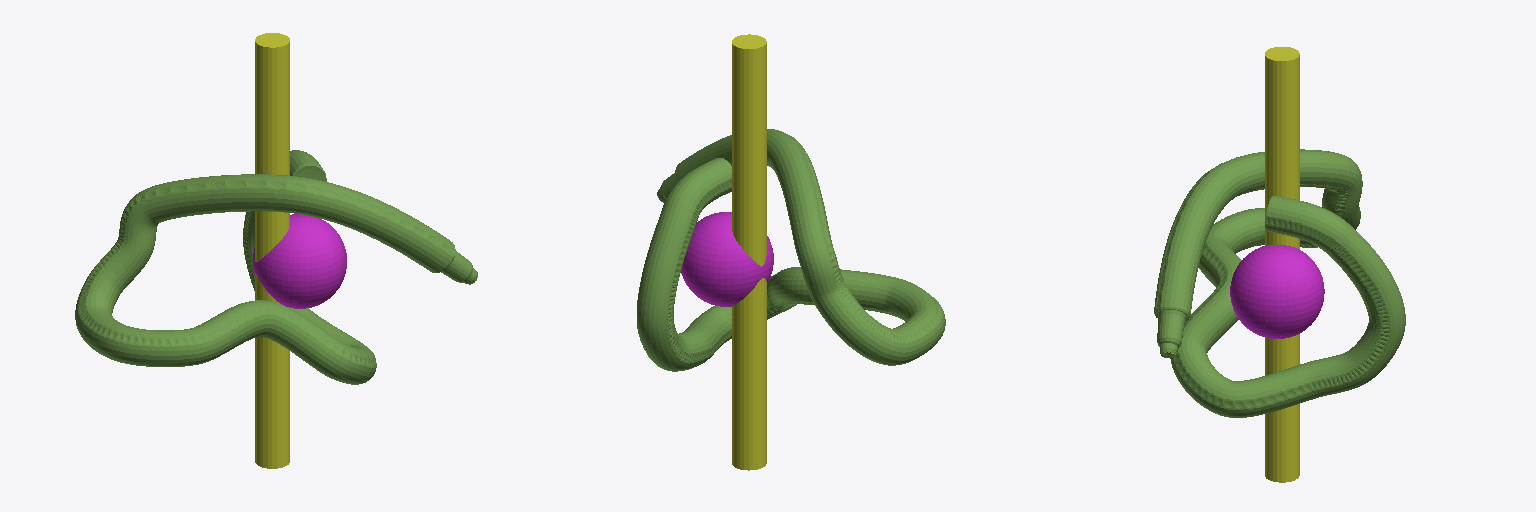
Rendered from Objekt.obj.
3 renders of one model, left to right at view 1: azimuth 30°, elevation 25°; view 2: azimuth 150°, elevation 25°; view 3: azimuth 270°, elevation 25°, orthographic.
Visible parts, largest first — view 1: Mesh, Cylinder, Sphere; view 2: Mesh, Cylinder, Sphere; view 3: Mesh, Cylinder, Sphere.
Boxes of the visible parts, x1,y1,x2,y2 form: Mesh: [75, 150, 477, 384]; Cylinder: [255, 33, 289, 468]; Sphere: [253, 214, 346, 308]; Mesh: [637, 129, 945, 371]; Cylinder: [732, 34, 766, 470]; Sphere: [681, 212, 773, 306]; Mesh: [1154, 149, 1405, 417]; Cylinder: [1265, 47, 1299, 482]; Sphere: [1230, 245, 1324, 338].
Bounding box in the file's own units: 3.97 × 4.83 × 2.61.